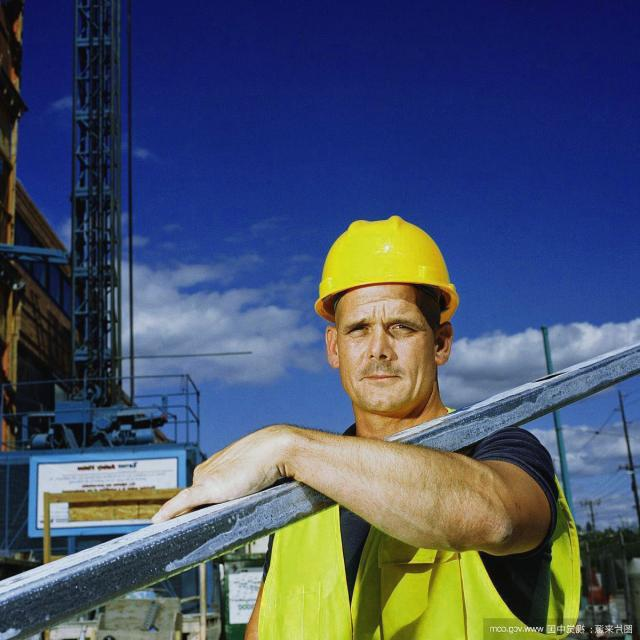face_nomask: (328, 291, 446, 414)
hand_noglove: (148, 409, 296, 538)
head_helmet: (313, 214, 458, 319)
person: (261, 214, 554, 639)
vest: (258, 414, 563, 640)
